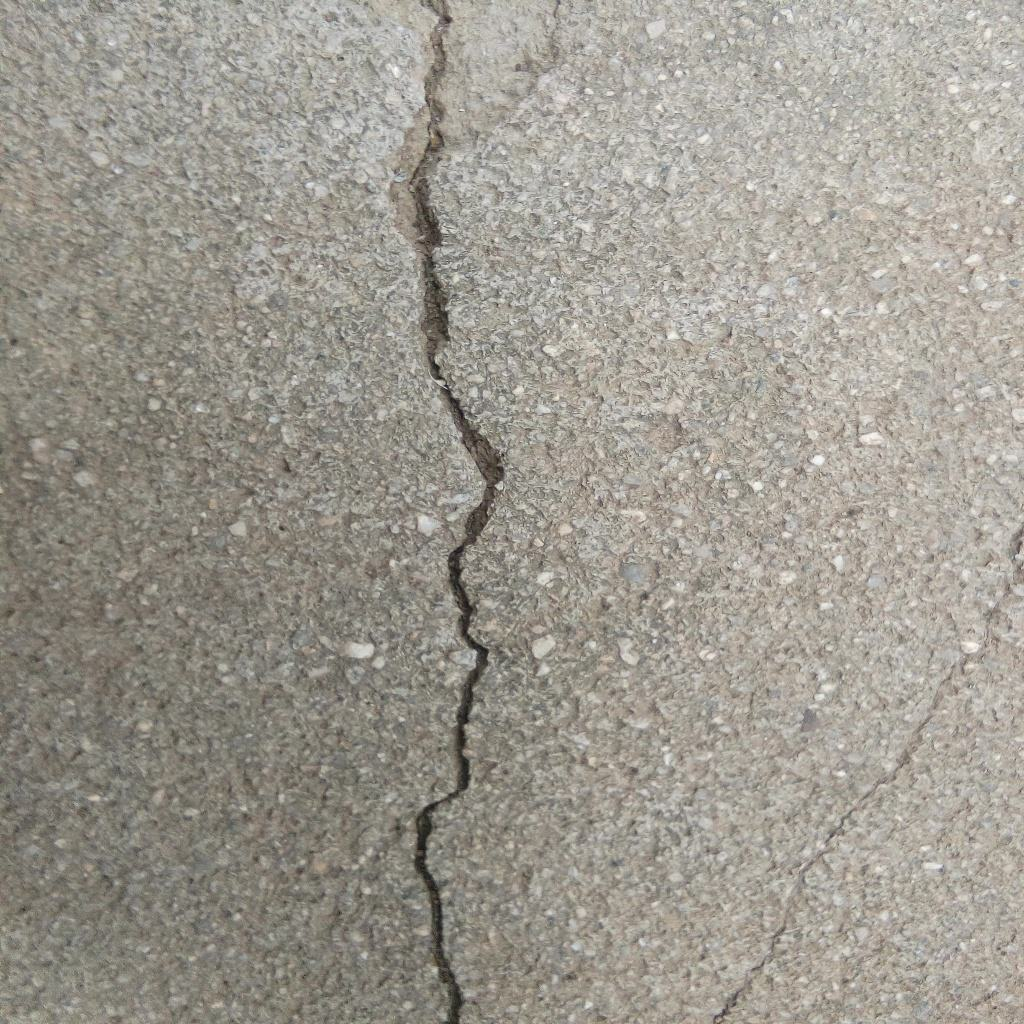Crack: (709, 519, 1024, 1024), (409, 1, 509, 1024)
